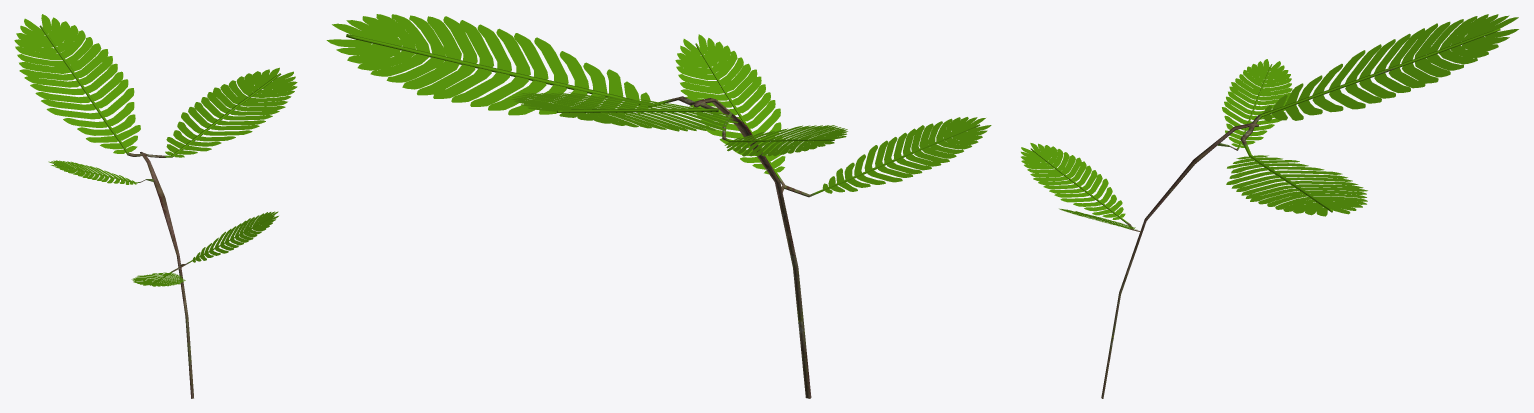
Rendered from Daun semalu.fbx.
The picture shows the model from 3 angles, left to right: view 1: azimuth 30°, elevation 25°; view 2: azimuth 150°, elevation 25°; view 3: azimuth 270°, elevation 25°; orthographic projection. The views are drawn at different scales.
Parts seen in each view (by area): view 1: Leaf Left.002, Left Right.002, Left Right.001, Leaf Left.001, Plane.002, Left Right_No_Animation.001, Leaf Left_No_Animation.001, Leaf Left_002, Leaf Right_002, Leaf Left_No_Animation.002, Left Right_No_Animation.002; view 2: Left Right.001, Leaf Left.001, Plane.002, Left Right_No_Animation.001, Leaf Left_No_Animation.001, Left Right_No_Animation.002, Leaf Left_No_Animation.002, Leaf Left.002, Left Right.002, Leaf Right_002, Leaf Left_002; view 3: Left Right.002, Leaf Left.002, Plane.002, Left Right.001, Leaf Left.001, Leaf Left_002, Leaf Left_No_Animation.002, Left Right_No_Animation.002, Leaf Right_002.
Part boxes in pixels (bbox=[...]): Leaf Left.002: bbox=[14, 18, 125, 153]; Left Right.002: bbox=[41, 14, 140, 151]; Left Right.001: bbox=[174, 71, 297, 157]; Leaf Left.001: bbox=[165, 67, 279, 155]; Plane.002: bbox=[39, 25, 281, 398]; Left Right_No_Animation.001: bbox=[193, 216, 278, 262]; Leaf Left_No_Animation.001: bbox=[192, 211, 278, 259]; Leaf Left_002: bbox=[51, 165, 136, 184]; Leaf Right_002: bbox=[48, 160, 134, 181]; Leaf Left_No_Animation.002: bbox=[151, 273, 185, 286]; Left Right_No_Animation.002: bbox=[131, 272, 168, 285]; Left Right.001: bbox=[332, 14, 650, 102]; Leaf Left.001: bbox=[326, 39, 648, 116]; Plane.002: bbox=[346, 34, 980, 398]; Left Right_No_Animation.001: bbox=[698, 34, 786, 172]; Leaf Left_No_Animation.001: bbox=[675, 39, 768, 174]; Left Right_No_Animation.002: bbox=[825, 125, 991, 193]; Leaf Left_No_Animation.002: bbox=[822, 117, 985, 188]; Leaf Left.002: bbox=[559, 111, 738, 131]; Left Right.002: bbox=[510, 92, 701, 111]; Leaf Right_002: bbox=[724, 140, 834, 156]; Leaf Left_002: bbox=[733, 125, 847, 140]; Left Right.002: bbox=[1263, 29, 1518, 121]; Leaf Left.002: bbox=[1263, 14, 1518, 113]; Plane.002: bbox=[1030, 28, 1500, 398]; Left Right.001: bbox=[1226, 156, 1327, 216]; Leaf Left.001: bbox=[1254, 155, 1367, 214]; Leaf Left_002: bbox=[1222, 59, 1269, 146]; Leaf Left_No_Animation.002: bbox=[1021, 147, 1119, 219]; Left Right_No_Animation.002: bbox=[1030, 143, 1125, 217]; Leaf Right_002: bbox=[1240, 61, 1292, 147].
Size of the model in its own units: 162 by 159 by 193.
